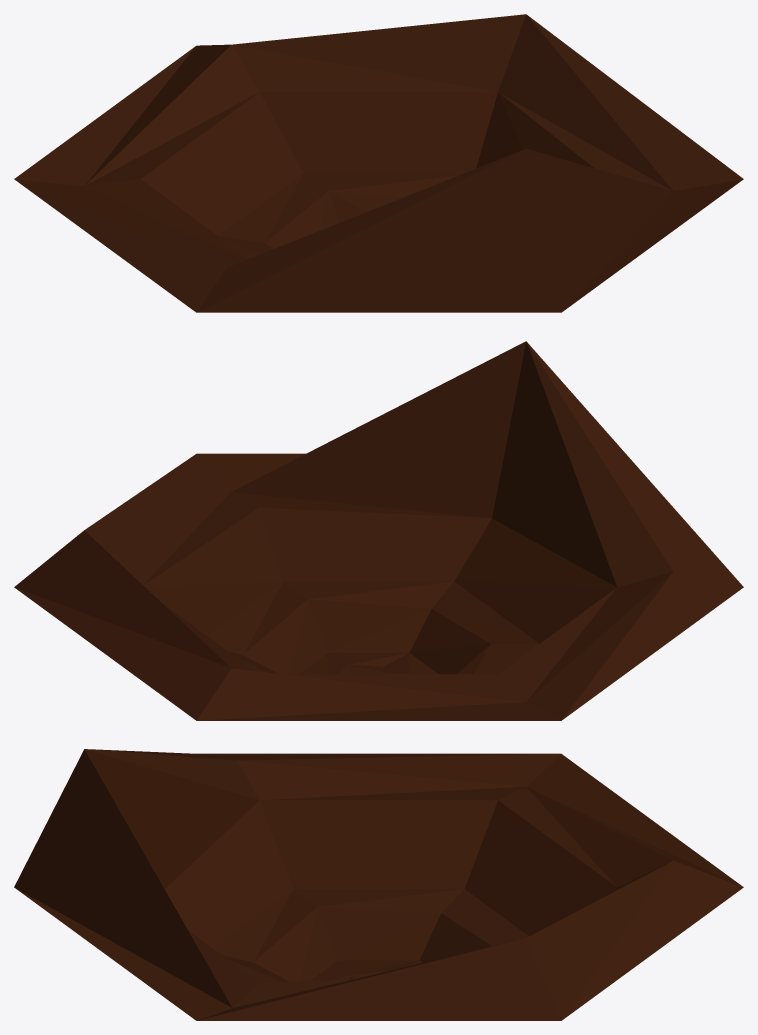
Rendered from ClayQuarryBlender.obj.
3 views of the same model, one above another, from view 1: azimuth 30°, elevation 25°; view 2: azimuth 150°, elevation 25°; view 3: azimuth 270°, elevation 25° (orthographic).
Visible parts, largest first — view 1: Circle; view 2: Circle; view 3: Circle.
Boxes of the visible parts, left/top/right/bottom form: Circle: left=14, top=14, right=743, bottom=312; Circle: left=14, top=341, right=743, bottom=720; Circle: left=14, top=749, right=743, bottom=1020.
Bounding box in the file's own units: 1.73 × 0.7276 × 2.
